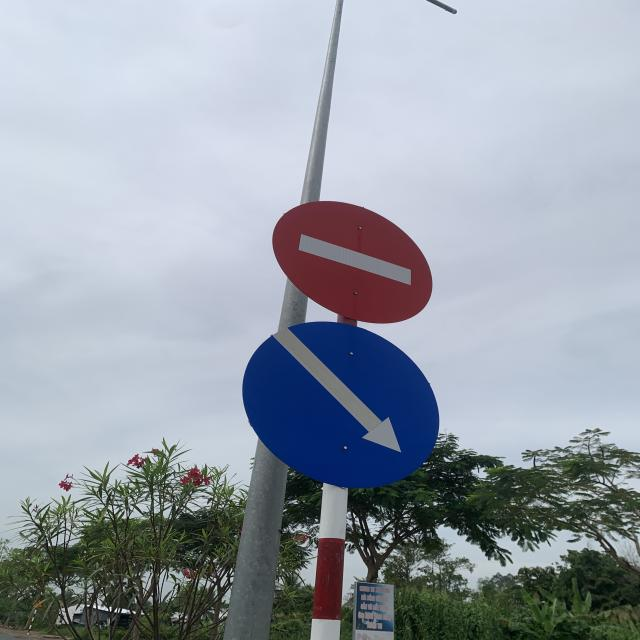Cam_Di_Nguoc_Chieu: (274, 200, 436, 322)
Chi_Huong_Di_Phai: (243, 319, 441, 492)
